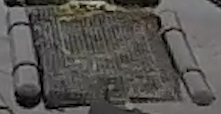bag: (10, 3, 215, 114)
